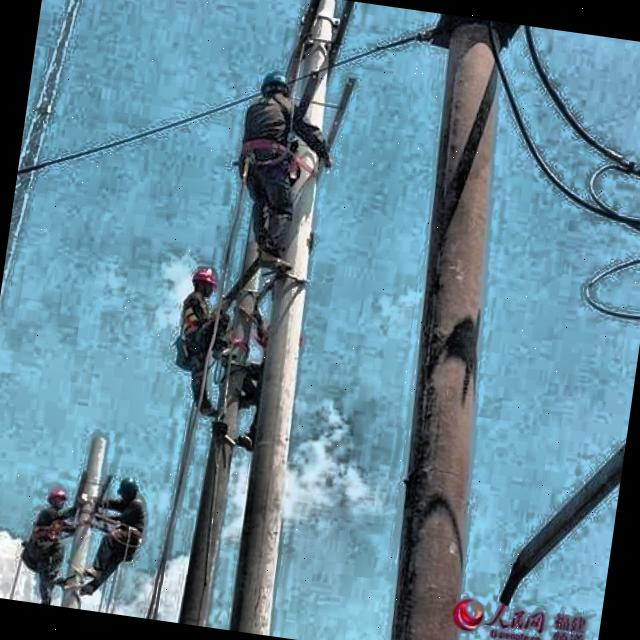helmet: (253, 64, 296, 108), (186, 256, 220, 306), (113, 471, 146, 512), (42, 483, 73, 518)
